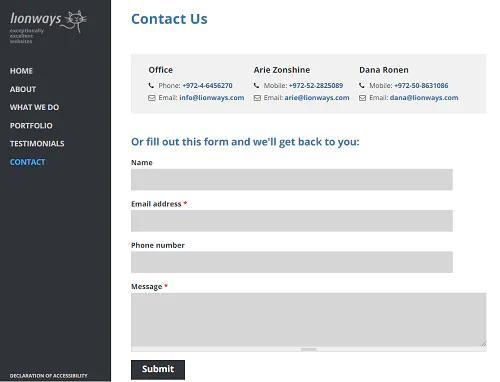button: (132, 360, 185, 382)
icon: (64, 8, 88, 37), (147, 94, 158, 103), (360, 94, 369, 104), (251, 84, 261, 92), (253, 95, 263, 103), (147, 84, 156, 91), (360, 83, 367, 89)
input: (131, 209, 454, 233), (132, 169, 453, 192), (130, 252, 455, 274)
label: (130, 278, 181, 295), (133, 197, 191, 211), (129, 240, 190, 253), (8, 140, 67, 151), (8, 103, 66, 114), (6, 156, 48, 170), (8, 121, 58, 132), (7, 66, 39, 78), (10, 84, 37, 97), (130, 157, 158, 169)
